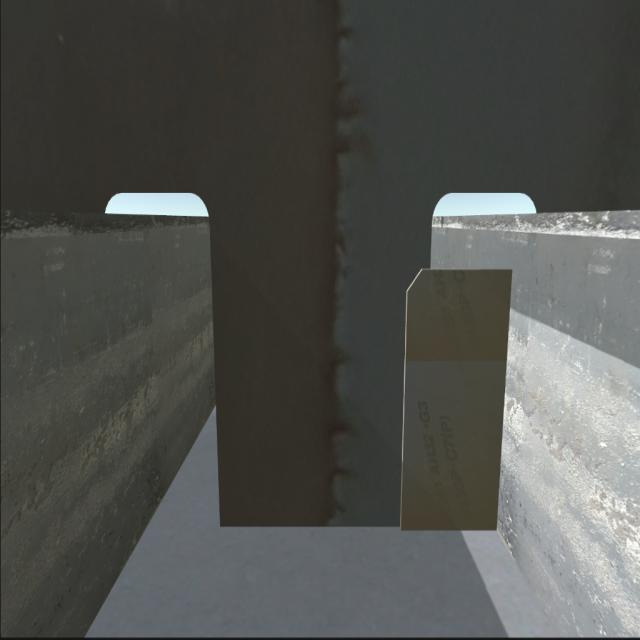fillet_yong_jeop_jang: (214, 508, 506, 543)
longi_yong_jeop_jang: (491, 252, 512, 534)
plate_CP03: (400, 266, 499, 540)
